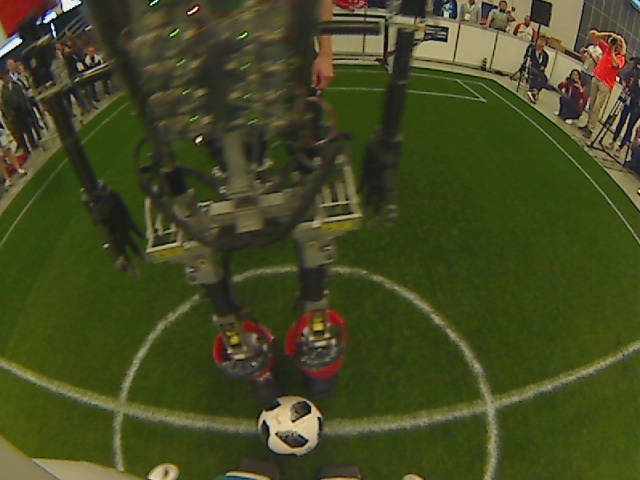ball: (254, 392, 328, 461)
